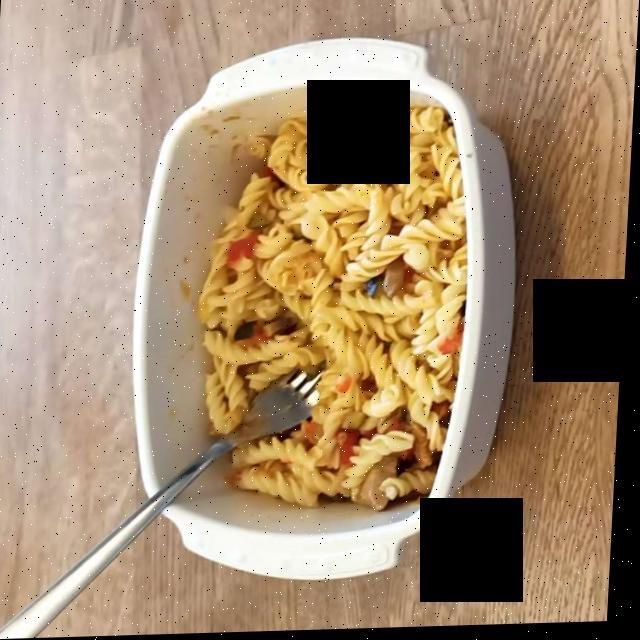pasta: (199, 114, 467, 507)
